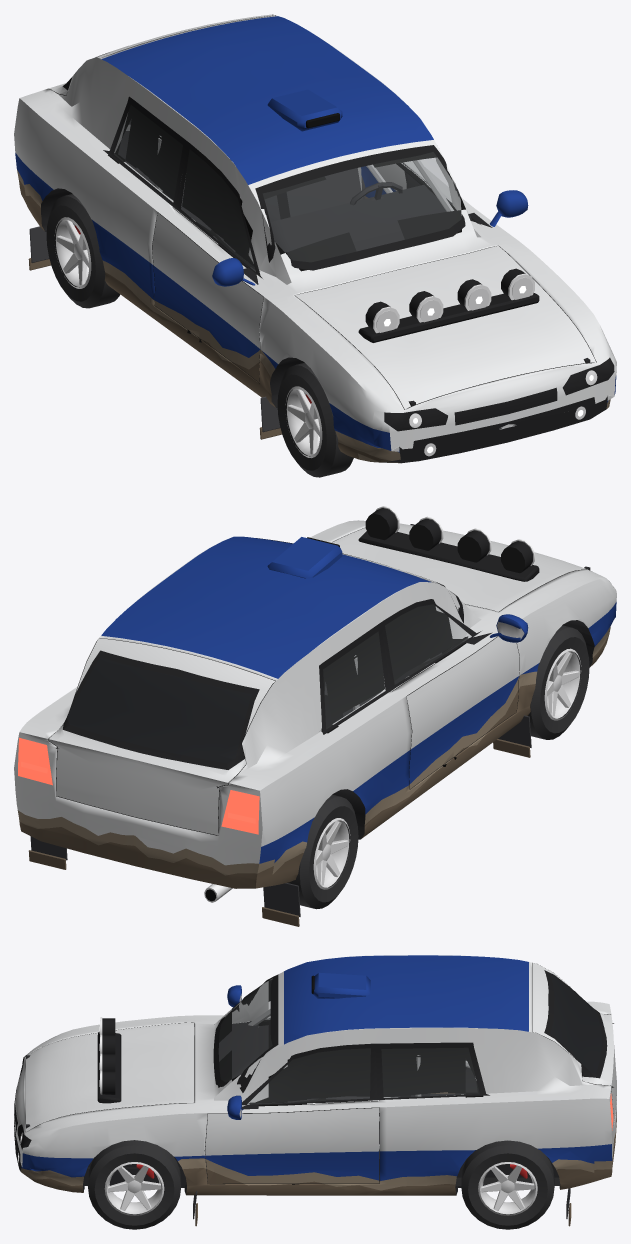
File: rally.glb
3 renders of one model, top to bottom at view 1: azimuth 30°, elevation 25°; view 2: azimuth 150°, elevation 25°; view 3: azimuth 270°, elevation 25°, orthographic. The views are drawn at different scales.
Visible parts, largest first — view 1: body, wheel-front-right, wheel-back-right; view 2: body, wheel-back-right, wheel-front-right; view 3: body, wheel-back-left, wheel-front-left.
Boxes of the visible parts, x1=… form: body: x1=14, y1=14, x2=616, y2=463; wheel-front-right: x1=277, y1=362, x2=353, y2=477; wheel-back-right: x1=46, y1=194, x2=120, y2=308; body: x1=14, y1=506, x2=616, y2=926; wheel-back-right: x1=287, y1=794, x2=358, y2=909; wheel-front-right: x1=528, y1=625, x2=589, y2=739; body: x1=14, y1=955, x2=616, y2=1226; wheel-back-left: x1=461, y1=1140, x2=554, y2=1229; wheel-front-left: x1=88, y1=1140, x2=181, y2=1229.
Bounding box in the file's own units: 2.3 × 1.74 × 4.76.
